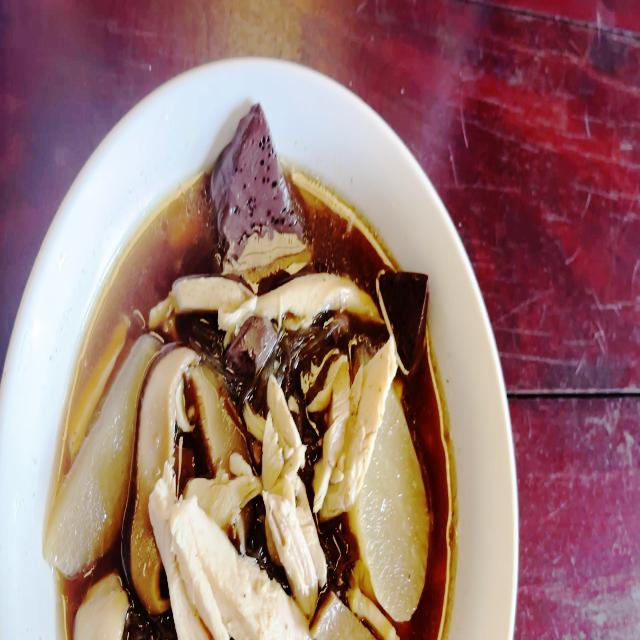boiled_chicken_blood_jelly: (215, 112, 306, 270), (376, 273, 425, 359), (231, 320, 276, 374)
chicken_shredded: (154, 483, 314, 640), (262, 378, 320, 594), (320, 347, 394, 500), (252, 274, 382, 322), (156, 268, 255, 326), (68, 575, 128, 640)
daikon_radish: (48, 332, 144, 576), (363, 422, 424, 624)
noodle: (51, 175, 451, 640)
